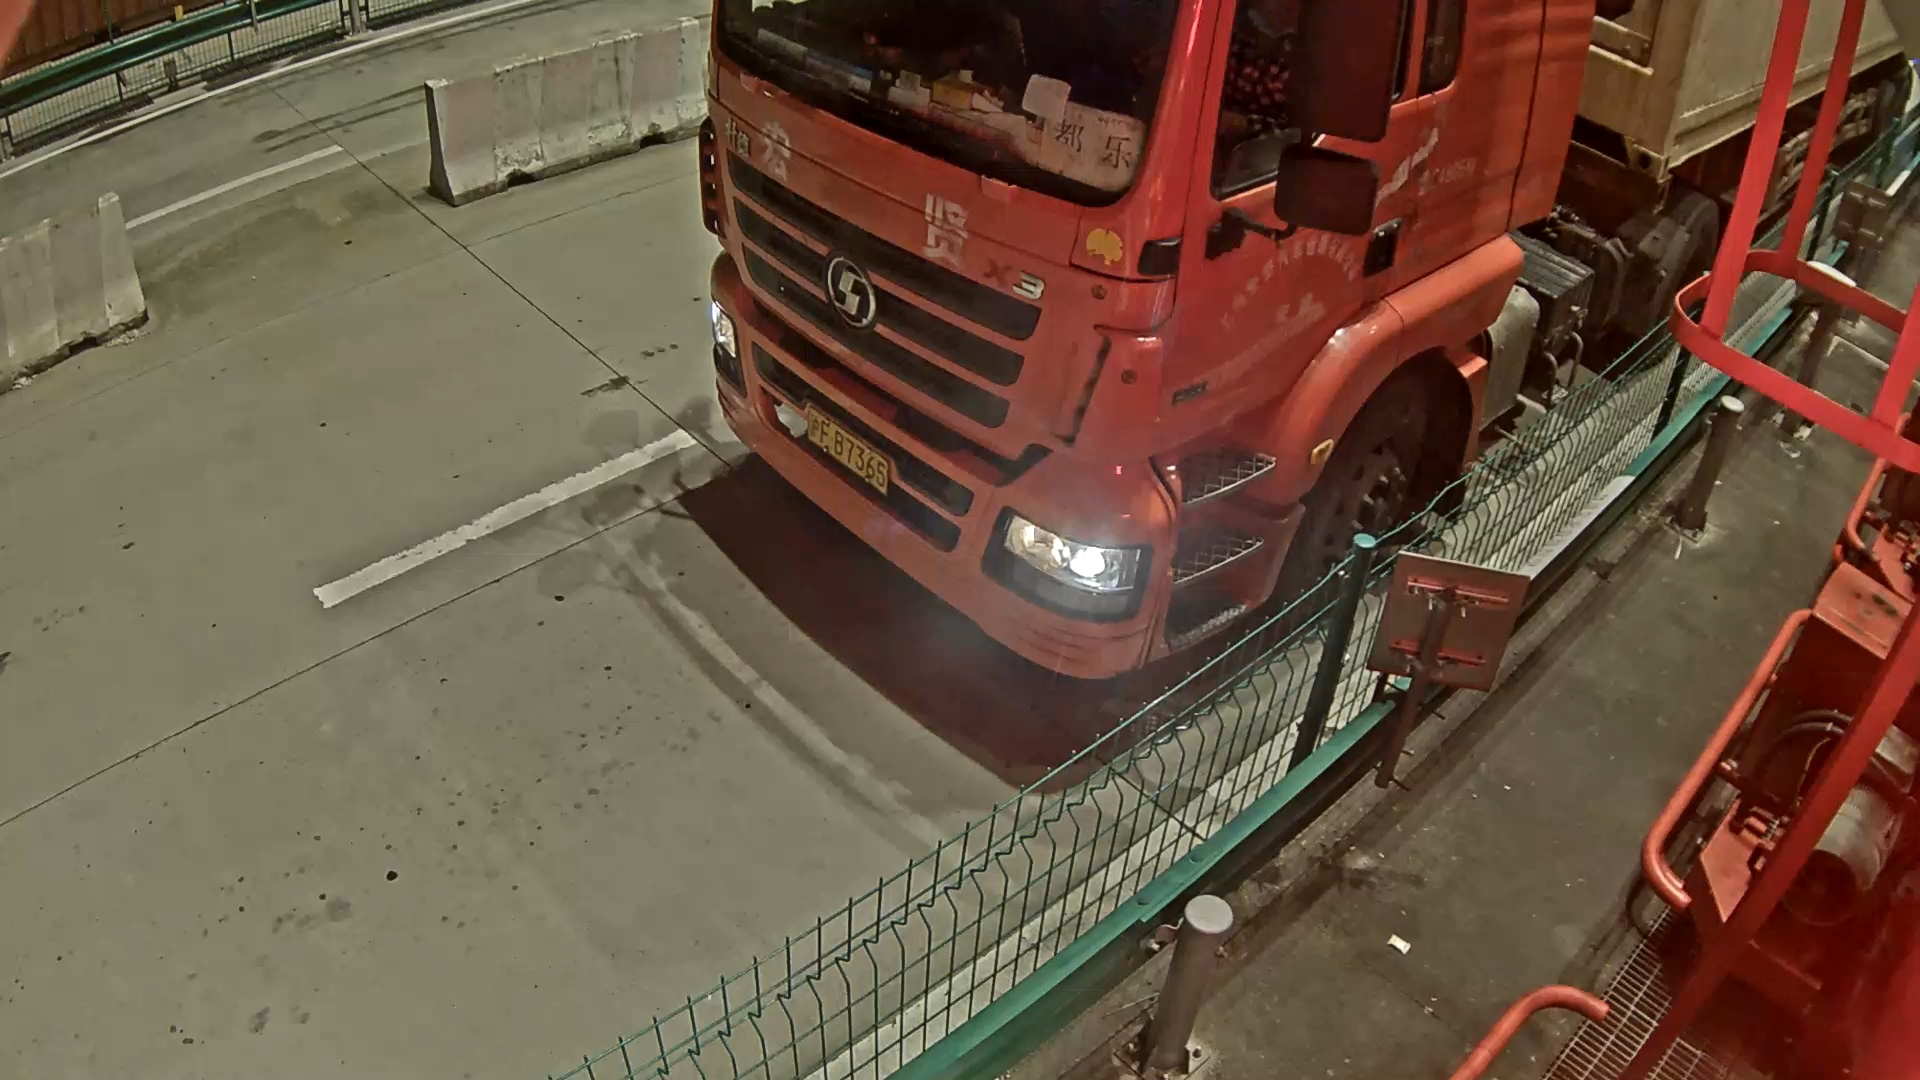head: (693, 1, 1594, 684)
plate: (810, 405, 891, 489)
